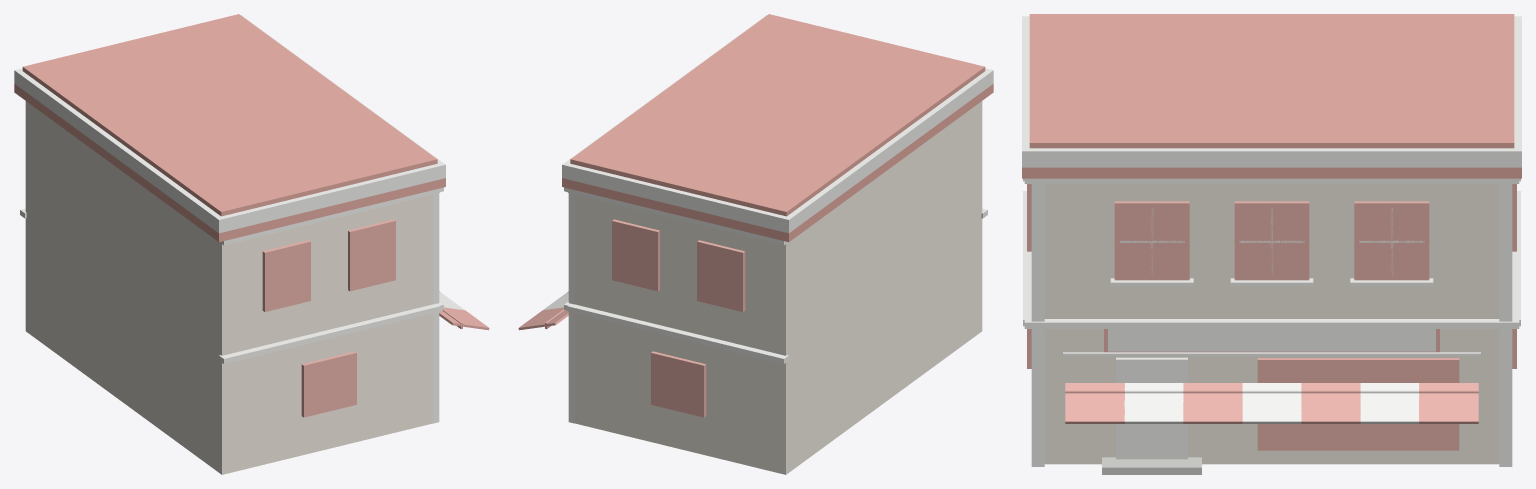
Rendered from Shop_A.fbx.
The picture shows the model from 3 angles, left to right: view 1: azimuth 30°, elevation 25°; view 2: azimuth 150°, elevation 25°; view 3: azimuth 270°, elevation 25°; orthographic projection. The views are drawn at different scales.
Parts seen in each view (by area): view 1: Shop_A; view 2: Shop_A; view 3: Shop_A.
Part boxes in pixels (<box>): Shop_A: <box>14,14,489,474</box>; Shop_A: <box>518,14,993,474</box>; Shop_A: <box>1022,14,1521,474</box>.
Bounding box in the file's own units: 8.13 × 7.18 × 10.
